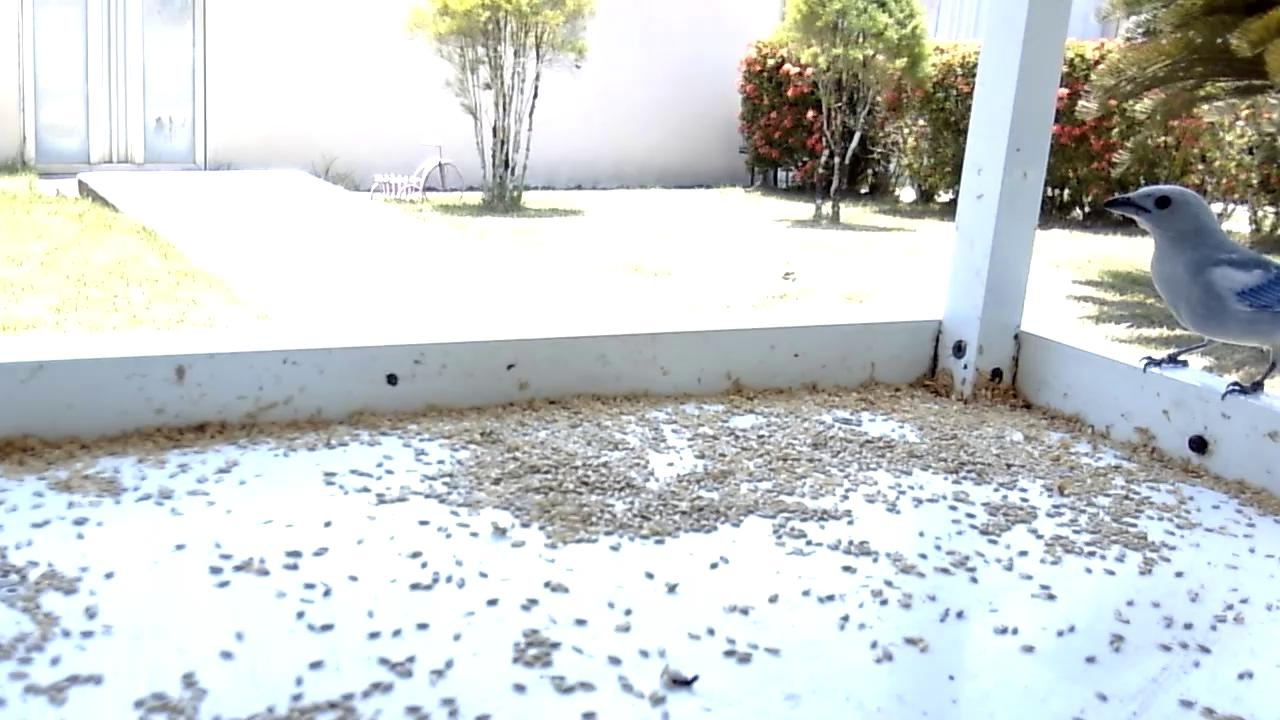sanhaco_da_amazonia: (1105, 183, 1280, 403)
